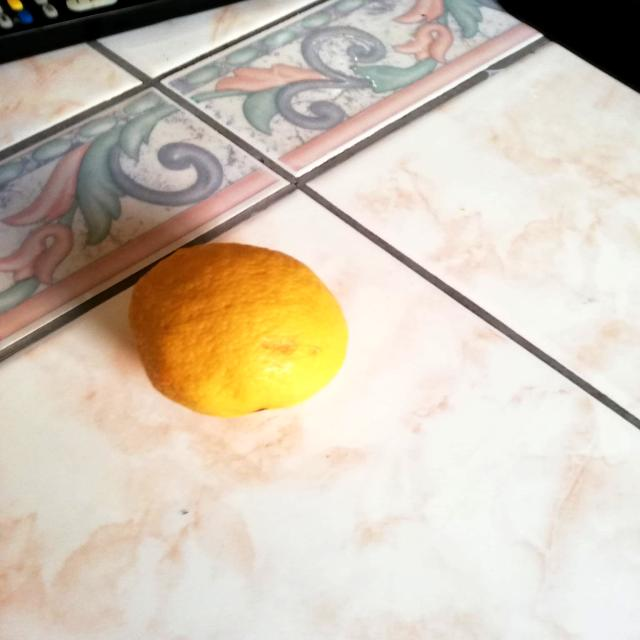lemon: (127, 232, 356, 422)
